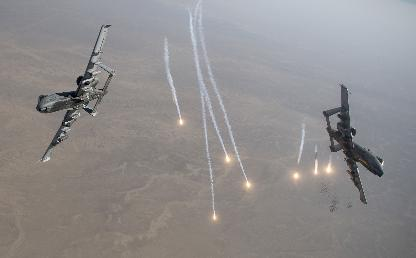A10: (35, 23, 117, 160), (322, 83, 382, 202)
